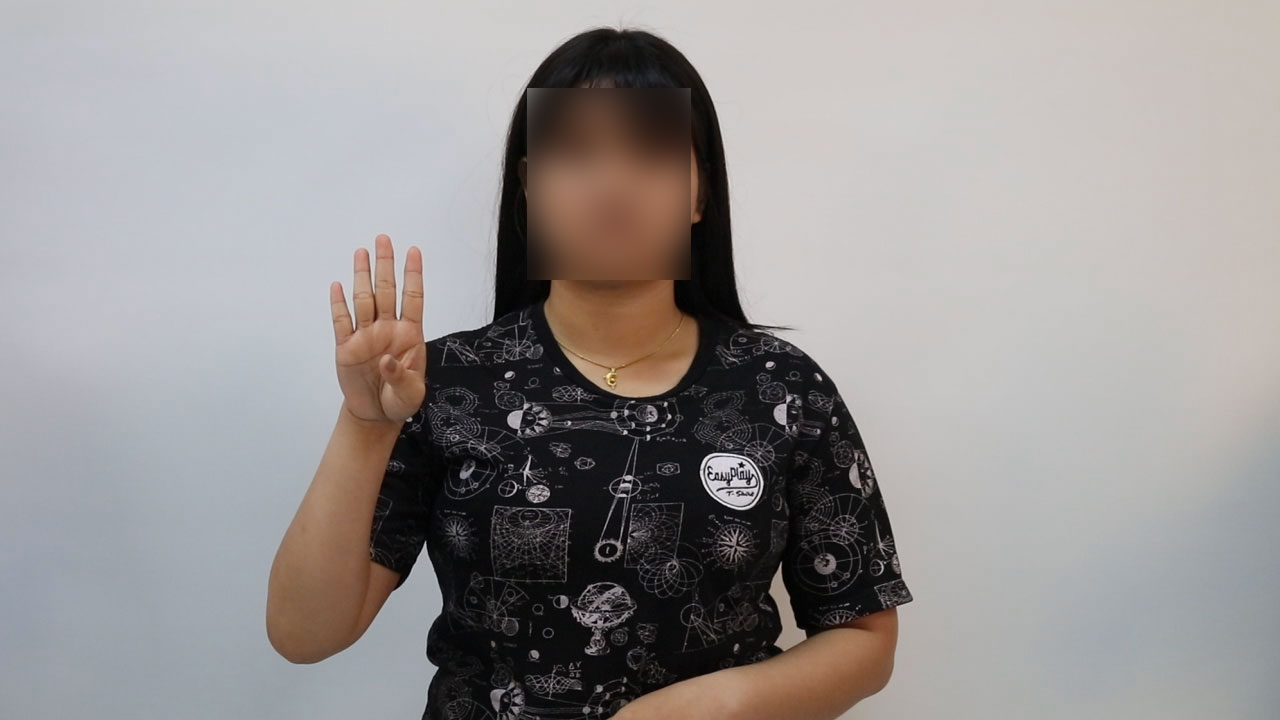bor: (317, 222, 438, 442)
